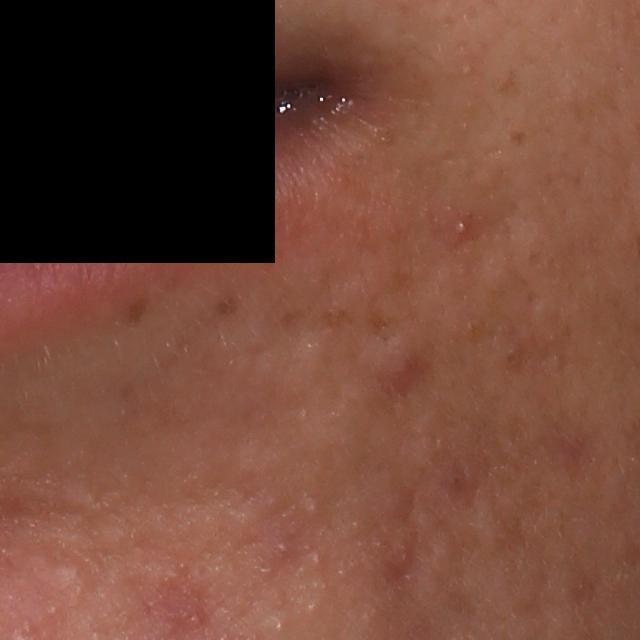melasma: (121, 292, 161, 334)
papule: (383, 339, 425, 391)
